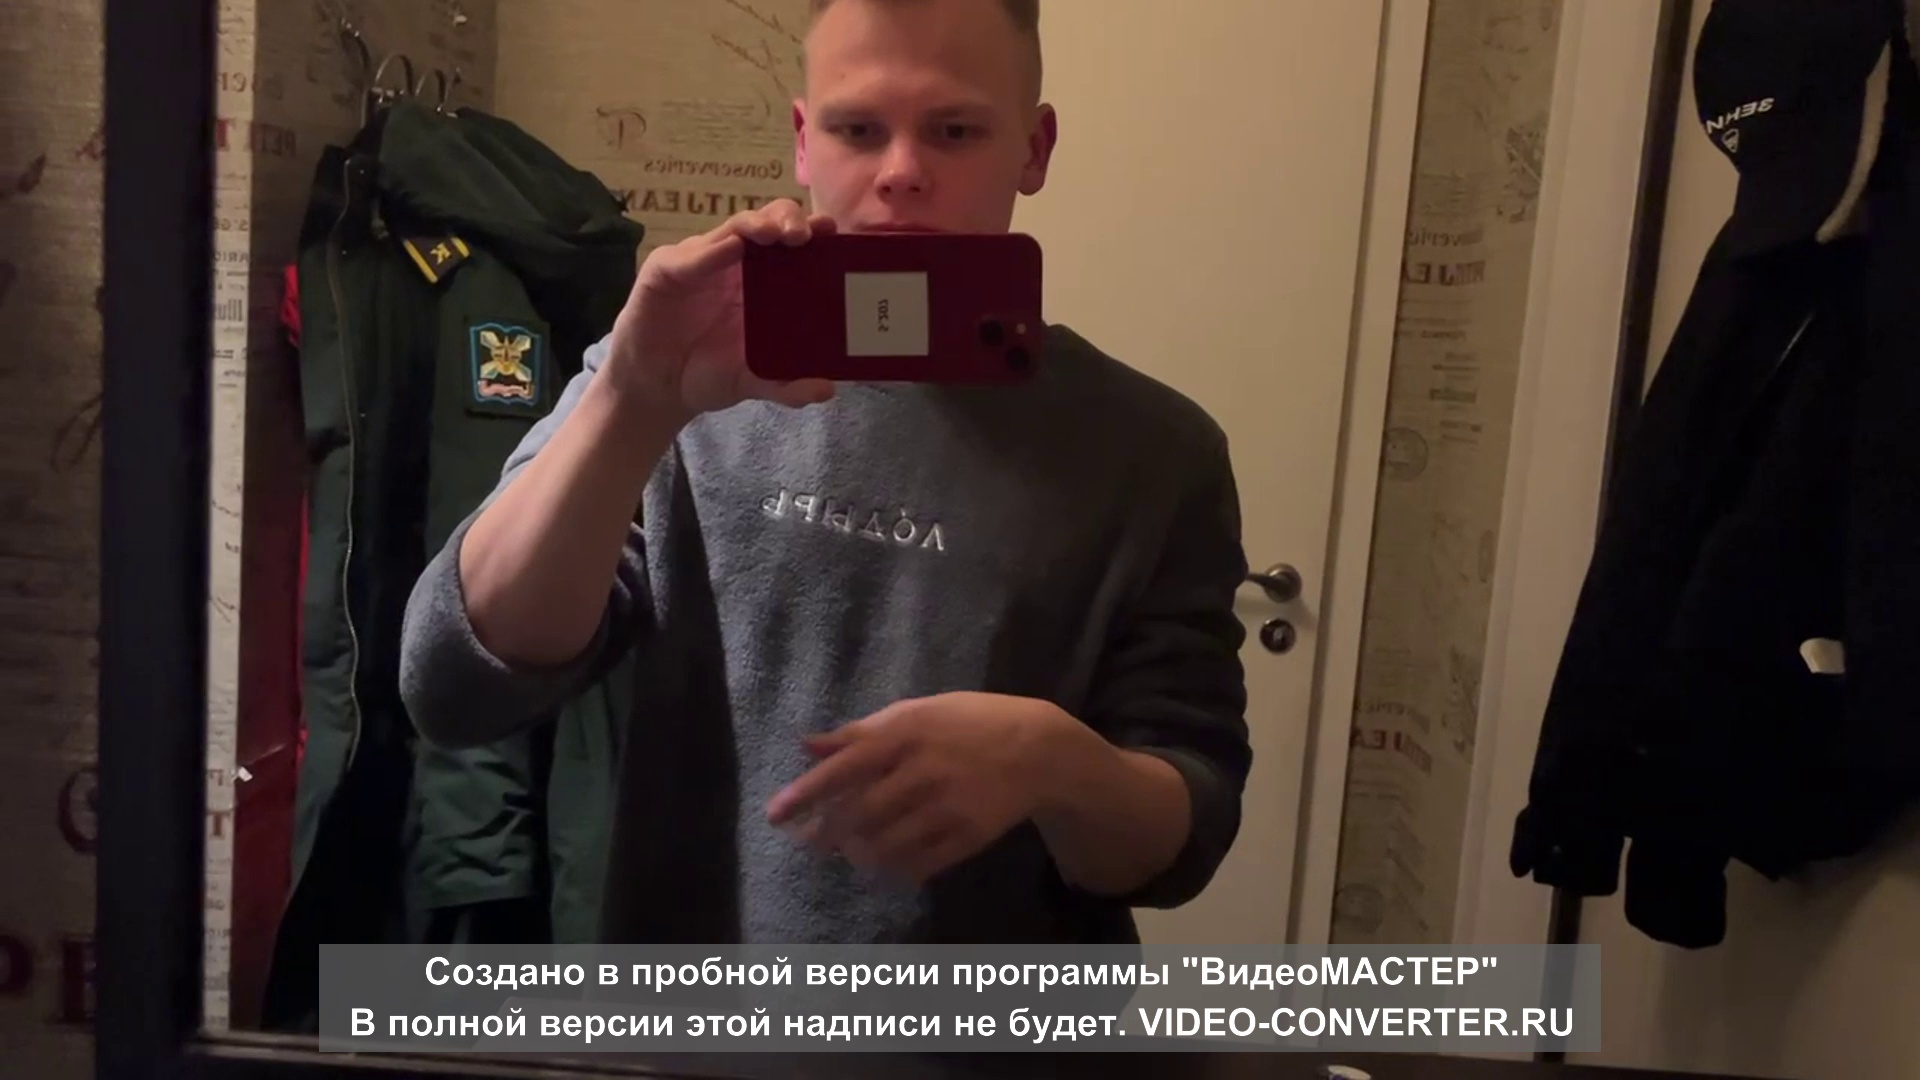Кисть: (766, 687, 1033, 887)
